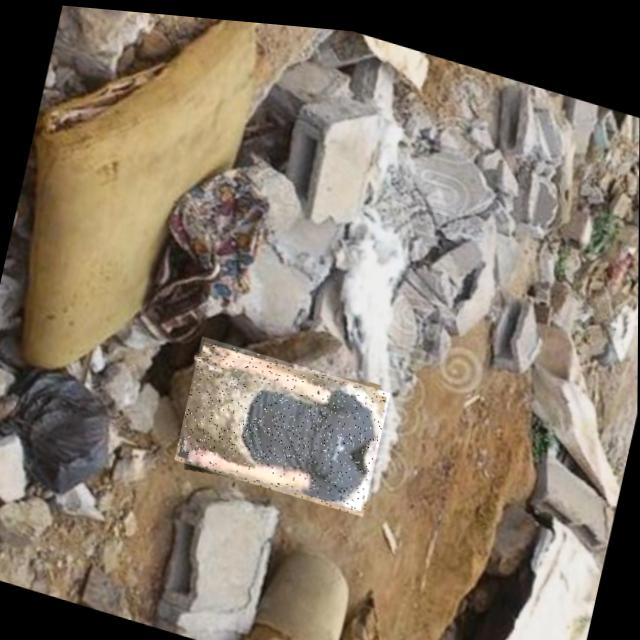Person in Rubble: (173, 330, 390, 511)
